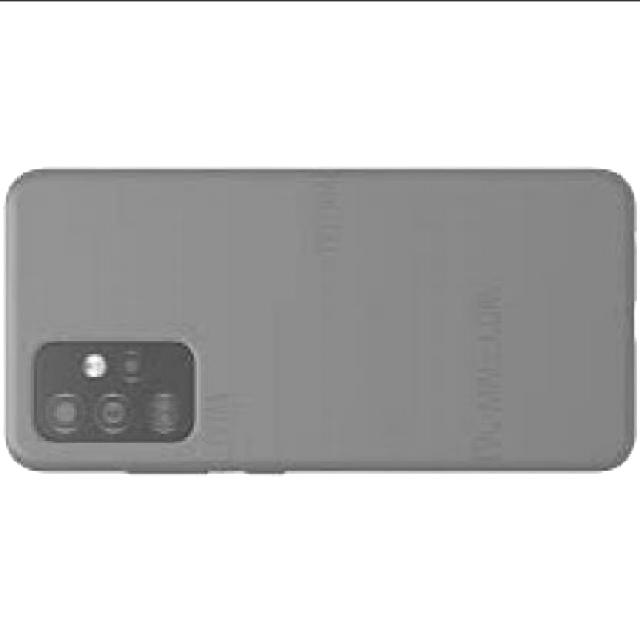fake: (9, 168, 637, 472)
